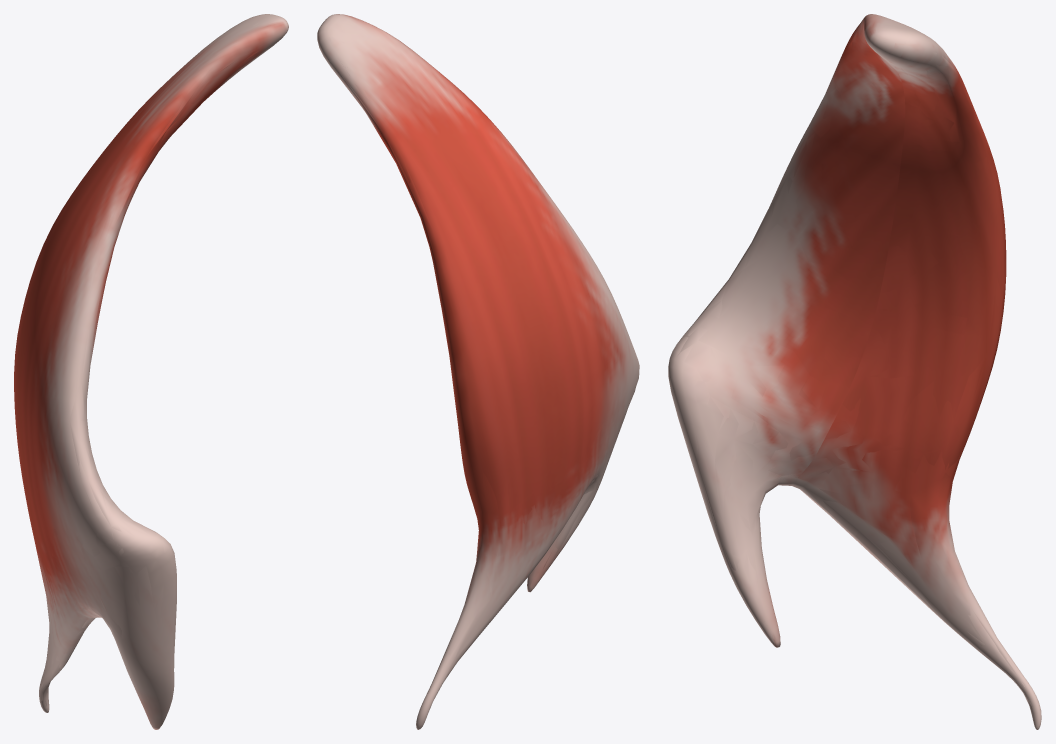
The model's file is R Biceps Femoris.fbx.
3 renders of one model, left to right at view 1: azimuth 30°, elevation 25°; view 2: azimuth 150°, elevation 25°; view 3: azimuth 270°, elevation 25°, orthographic. The views are drawn at different scales.
Parts seen in each view (by area): view 1: R Biceps Femoris, R Biceps Femoris low; view 2: R Biceps Femoris, R Biceps Femoris low; view 3: R Biceps Femoris, R Biceps Femoris low.
Part boxes in pixels (x1,y1,x2,y2): R Biceps Femoris: [14, 14, 288, 729]; R Biceps Femoris low: [14, 15, 281, 705]; R Biceps Femoris: [317, 14, 639, 729]; R Biceps Femoris low: [319, 21, 638, 726]; R Biceps Femoris: [668, 14, 1041, 729]; R Biceps Femoris low: [669, 16, 1034, 721].
Size of the model in its own units: 14.13 by 34 by 14.62.
